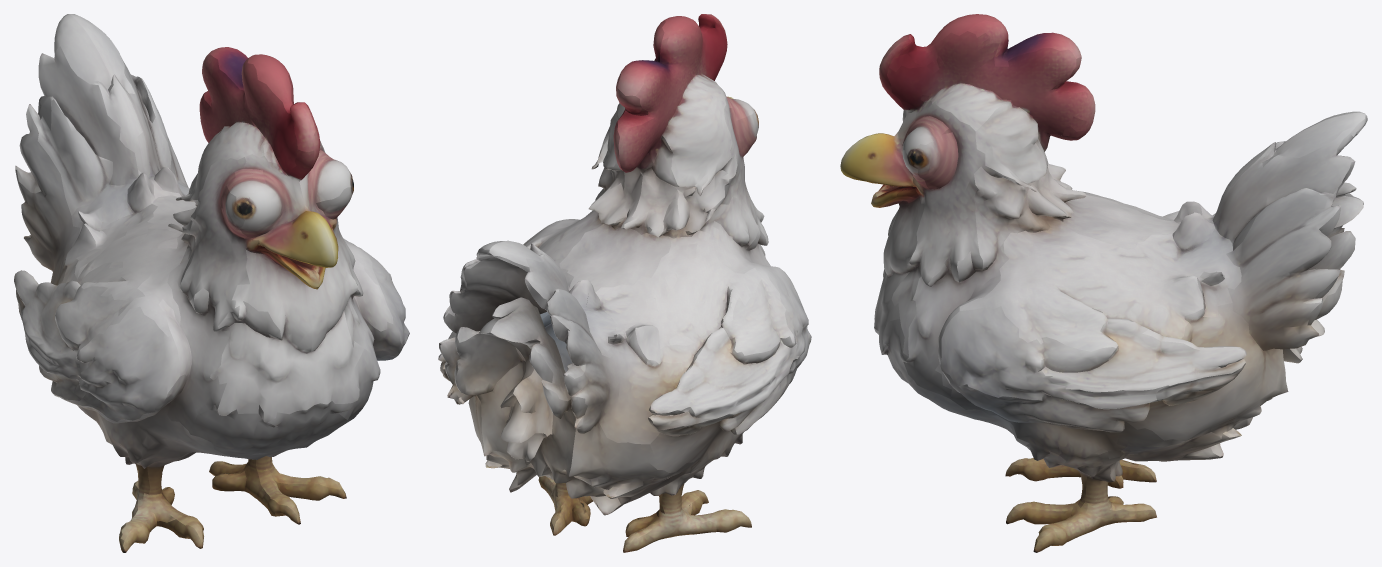
Rendered from Chicken.fbx.
3 renders of one model, left to right at view 1: azimuth 30°, elevation 25°; view 2: azimuth 150°, elevation 25°; view 3: azimuth 270°, elevation 25°, orthographic. The views are drawn at different scales.
Parts seen in each view (by area): view 1: node_cc52d369_9705_4d69_ae89_9d8f1aaadcdc_mesh0; view 2: node_cc52d369_9705_4d69_ae89_9d8f1aaadcdc_mesh0; view 3: node_cc52d369_9705_4d69_ae89_9d8f1aaadcdc_mesh0.
Boxes of the visible parts, <box> form: node_cc52d369_9705_4d69_ae89_9d8f1aaadcdc_mesh0: <box>14,14,409,552</box>; node_cc52d369_9705_4d69_ae89_9d8f1aaadcdc_mesh0: <box>438,14,811,552</box>; node_cc52d369_9705_4d69_ae89_9d8f1aaadcdc_mesh0: <box>840,14,1367,552</box>.
Size of the model in its own units: 67.83 by 100 by 98.85.
Materials: 1 (1 with a texture image).
